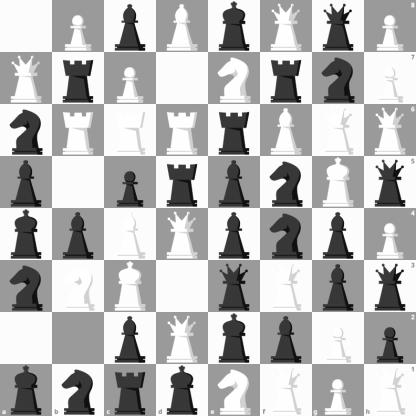B: (105, 209, 156, 260), (157, 1, 208, 52), (261, 105, 312, 156)
K: (105, 261, 156, 312), (313, 157, 364, 208)
N: (209, 364, 260, 416), (53, 261, 104, 312), (209, 53, 260, 104)
P: (312, 364, 364, 416), (364, 0, 416, 52), (364, 52, 416, 104), (364, 209, 416, 260), (53, 1, 104, 52), (105, 53, 156, 104), (313, 313, 364, 364)
Q: (260, 364, 312, 416), (364, 104, 416, 156), (364, 364, 416, 416), (1, 53, 52, 104), (157, 209, 208, 260), (157, 313, 208, 364), (261, 1, 312, 52), (261, 261, 312, 312), (313, 105, 364, 156)
R: (53, 105, 104, 156), (105, 105, 156, 156), (157, 105, 208, 156)
b: (1, 157, 52, 208), (53, 209, 104, 260), (105, 1, 156, 52), (105, 313, 156, 364), (209, 157, 260, 208), (209, 209, 260, 260), (261, 313, 312, 364), (313, 209, 364, 260), (313, 261, 364, 312)
board: (0, 0, 415, 415)
k: (156, 364, 209, 416), (0, 364, 52, 416), (1, 209, 52, 260), (209, 1, 260, 52), (209, 313, 260, 364)
n: (52, 364, 104, 416), (1, 105, 52, 156), (1, 261, 52, 312), (261, 157, 312, 208), (261, 209, 312, 260), (313, 53, 364, 104)
p: (364, 312, 416, 364), (105, 157, 156, 208)
q: (364, 156, 416, 209), (364, 260, 416, 312), (209, 261, 260, 312), (313, 1, 364, 52)
r: (104, 364, 156, 416), (53, 53, 104, 104), (157, 157, 208, 208), (209, 105, 260, 156), (261, 53, 312, 104)
